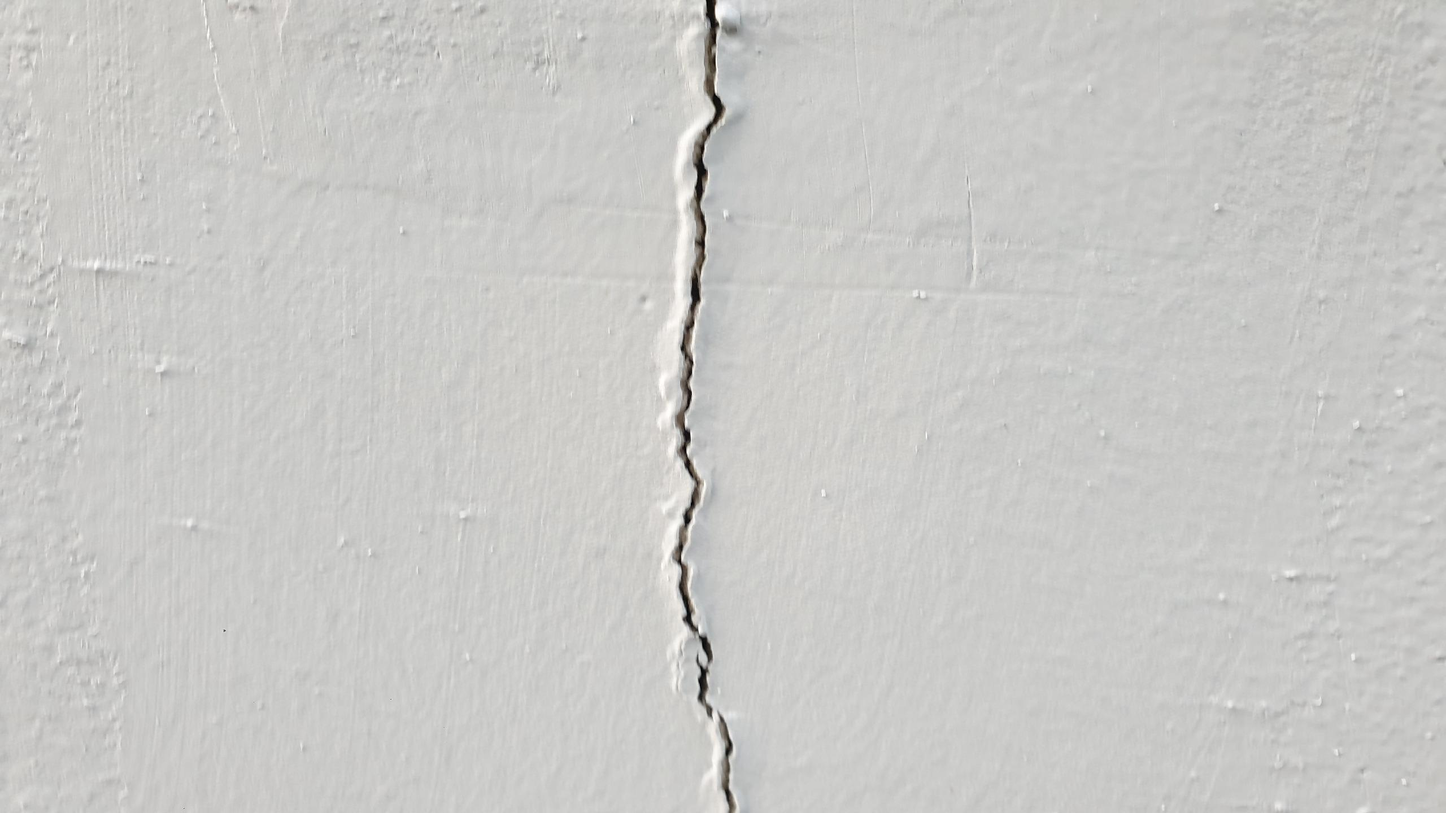crack: (665, 1, 744, 799)
